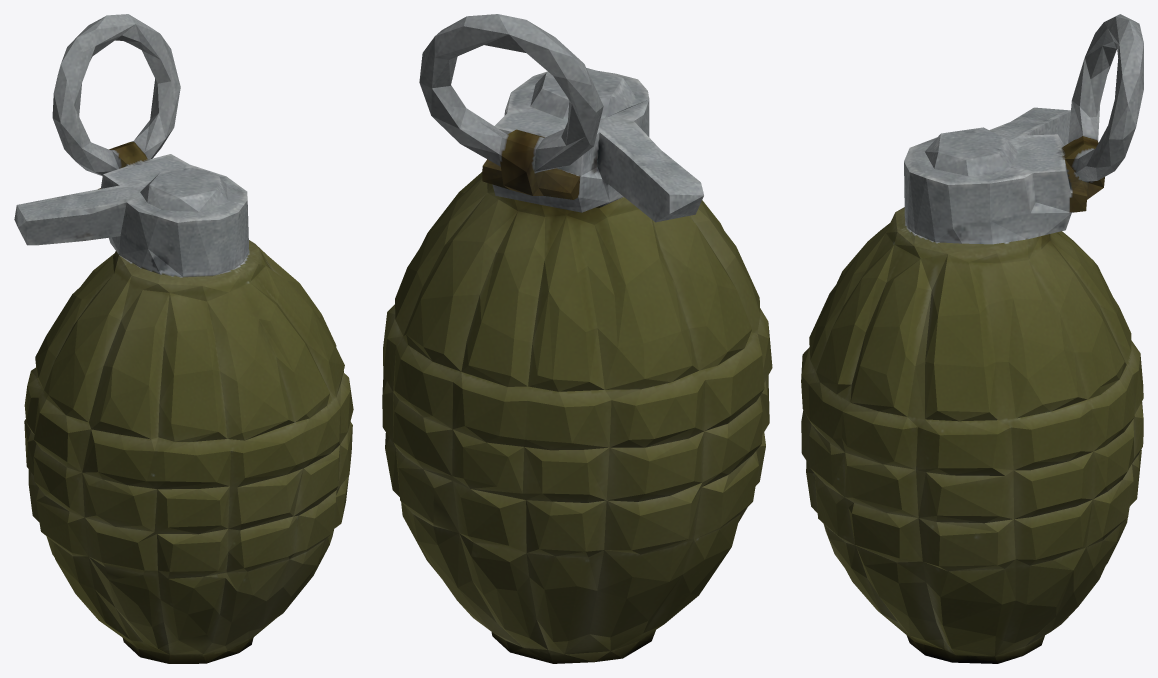
File: grenade.fbx
The picture shows the model from 3 angles, left to right: view 1: azimuth 30°, elevation 25°; view 2: azimuth 150°, elevation 25°; view 3: azimuth 270°, elevation 25°; orthographic projection. The views are drawn at different scales.
Visible parts, largest first — view 1: Mesh_0; view 2: Mesh_0; view 3: Mesh_0.
Part boxes in pixels (x1,y1,x2,y2): Mesh_0: [14, 14, 353, 663]; Mesh_0: [382, 14, 772, 663]; Mesh_0: [801, 14, 1143, 663].
Bounding box in the file's own units: 0.0598 × 0.115 × 0.0586.
Materials: 1 (1 with a texture image).
